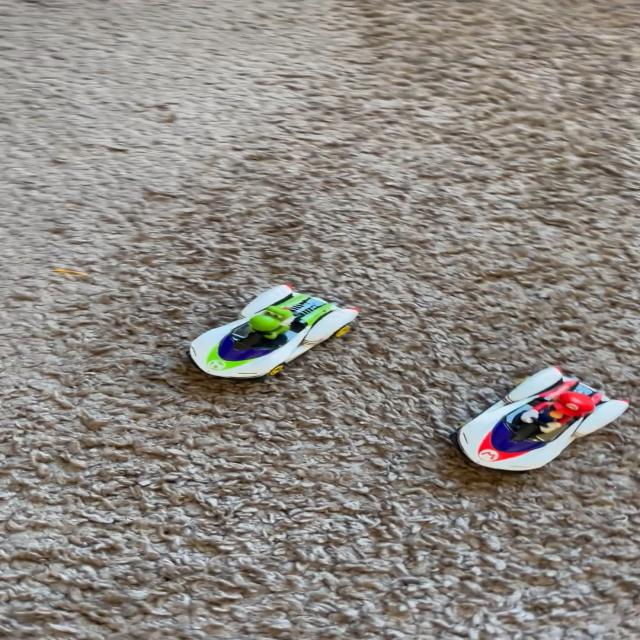mario: (442, 356, 637, 482)
yoshi: (177, 280, 369, 386)
